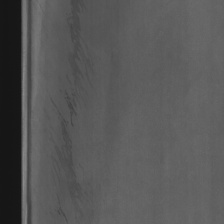water_spot: (47, 0, 96, 221)
